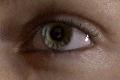eye: (43, 24, 72, 48)
